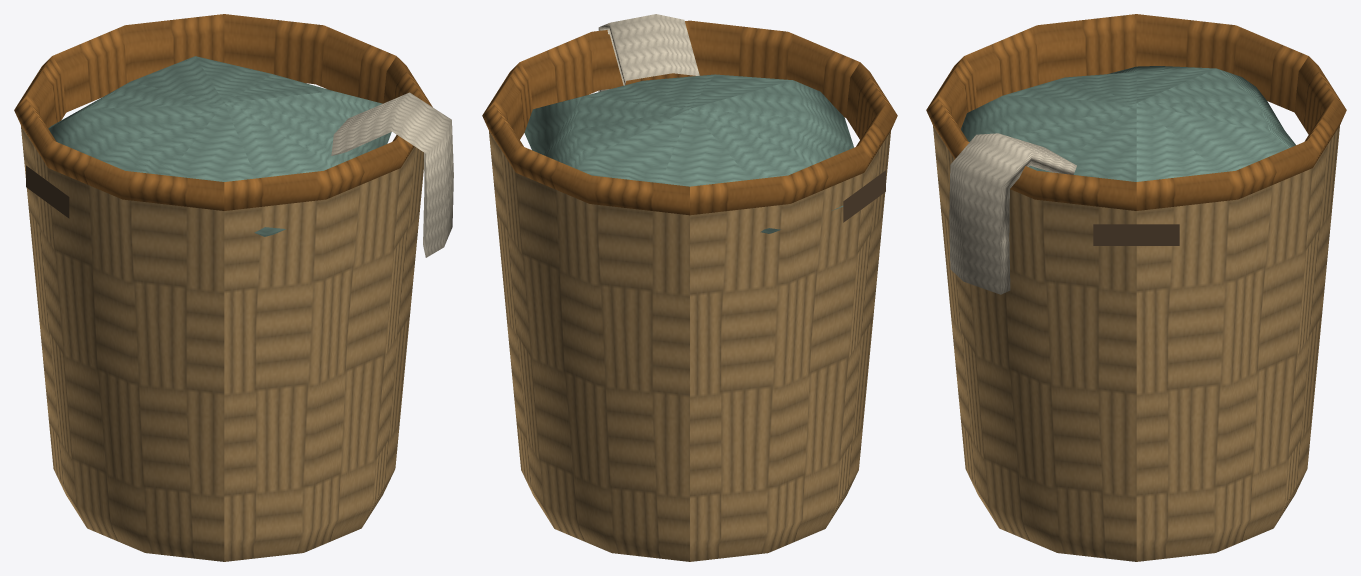
Rendered from laundry_basket.glb.
3 views of the same model, side by side, from view 1: azimuth 30°, elevation 25°; view 2: azimuth 150°, elevation 25°; view 3: azimuth 270°, elevation 25° (orthographic).
Parts seen in each view (by area): view 1: laundry_basket; view 2: laundry_basket; view 3: laundry_basket.
Boxes of the visible parts, box(x1,y1,x2,y2) form: laundry_basket: box(14, 14, 453, 561); laundry_basket: box(482, 14, 897, 561); laundry_basket: box(926, 14, 1346, 561).
Bounding box in the file's own units: 0.438 × 0.4733 × 0.438.
Materials: 2 (1 with a texture image).
